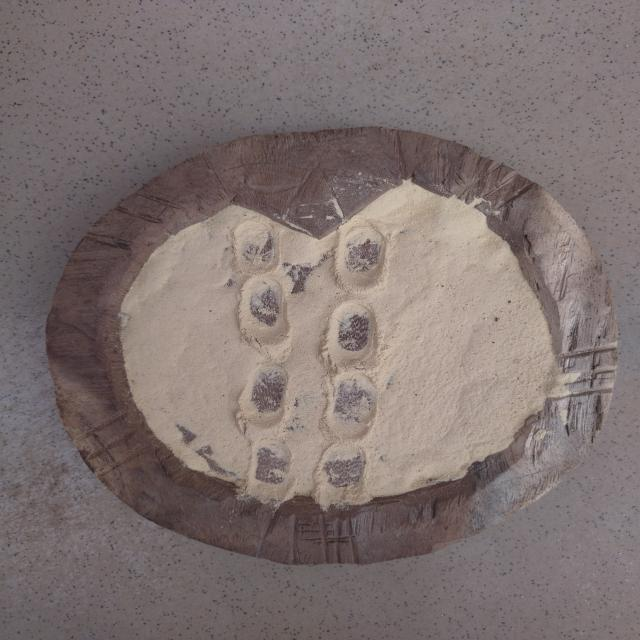single: (234, 275, 296, 357), (330, 225, 395, 296), (323, 300, 384, 370), (325, 372, 380, 444), (314, 438, 372, 506), (236, 360, 292, 428), (246, 436, 298, 500), (229, 216, 283, 275)
